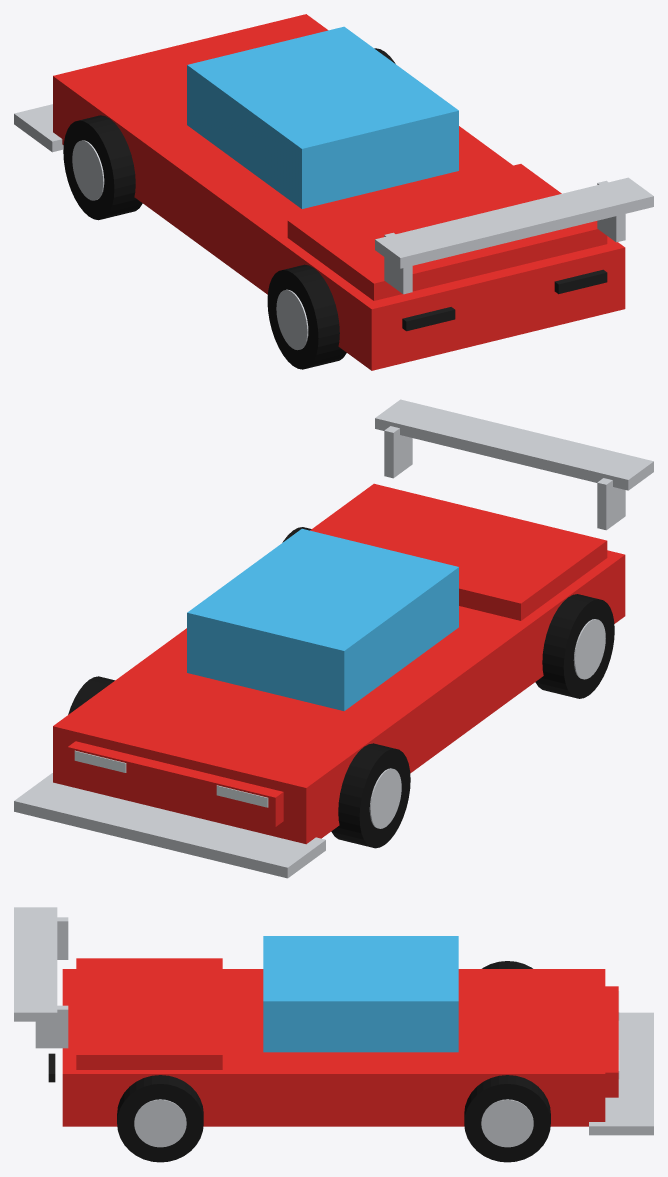
File: vehicle_mclaren_senna.glb
3 views of the same model, one above another, from view 1: azimuth 30°, elevation 25°; view 2: azimuth 150°, elevation 25°; view 3: azimuth 270°, elevation 25° (orthographic). The views are drawn at different scales.
Visible parts, largest first — view 1: world; view 2: world; view 3: world.
Part boxes in pixels (x1,y1,x2,y2): world: (14, 14, 653, 370); world: (14, 399, 653, 878); world: (14, 907, 653, 1162).
Size of the model in its own units: 2.57 by 1.36 by 5.61.
